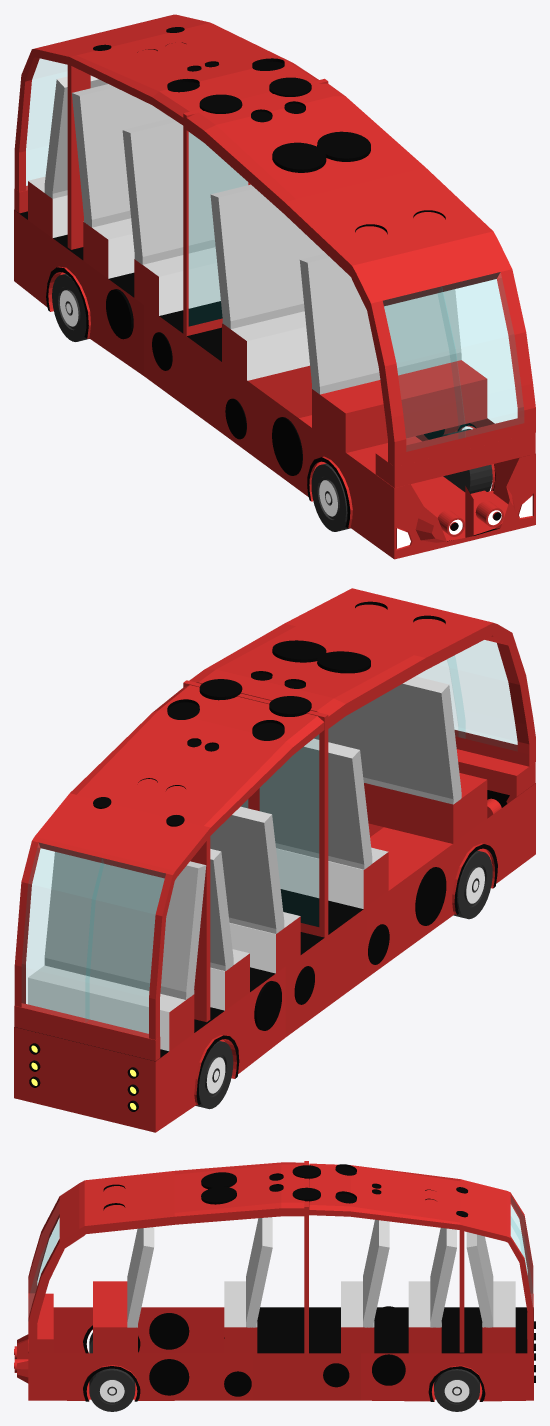
File: MudangE.gltf
The picture shows the model from 3 angles, top to bottom: view 1: azimuth 30°, elevation 25°; view 2: azimuth 150°, elevation 25°; view 3: azimuth 270°, elevation 25°; orthographic projection. The views are drawn at different scales.
Parts seen in each view (by area): view 1: Cube; view 2: Cube; view 3: Cube.
Boxes of the visible parts, bbox=[...] form: Cube: bbox=[14, 14, 535, 559]; Cube: bbox=[14, 588, 535, 1132]; Cube: bbox=[14, 1161, 535, 1411].
Bounding box in the file's own units: 2.13 × 4.21 × 9.61.
